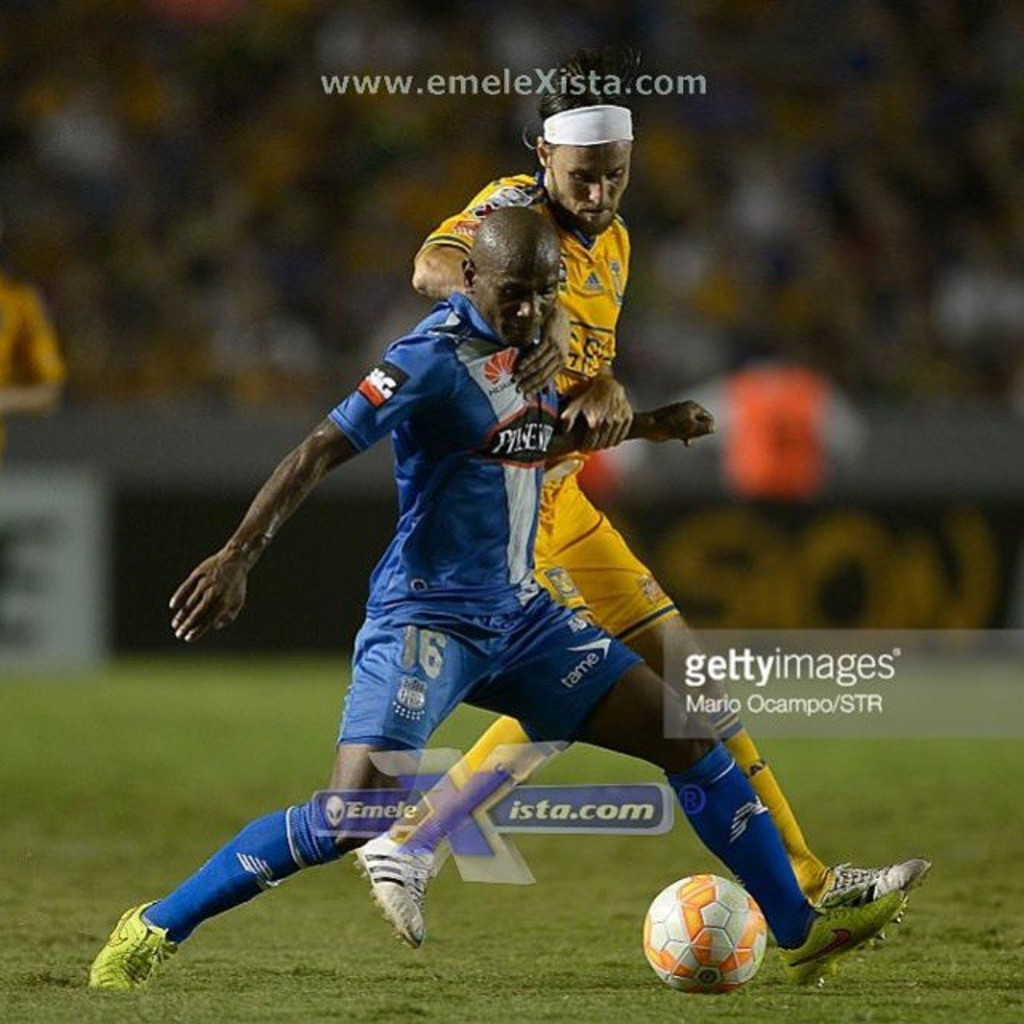Person: (90, 205, 908, 993), (345, 44, 927, 952)
